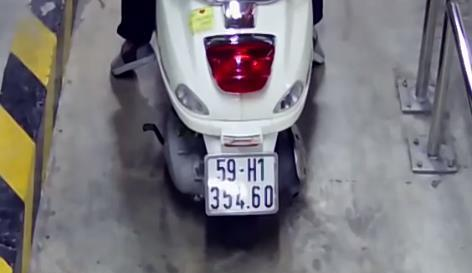lisence: (203, 153, 280, 216)
